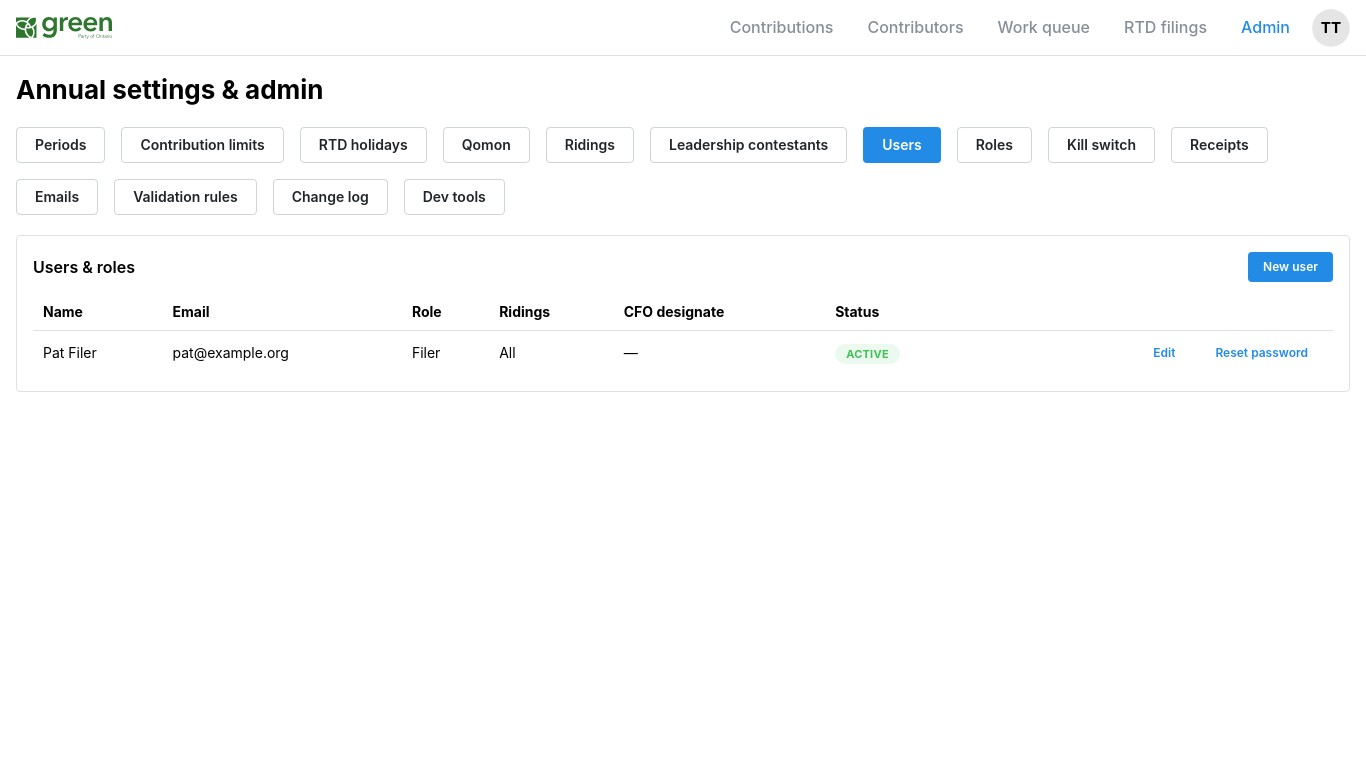
Test: an admin resets a user password with a reason
This screenshot has width=1366, height=768.
Click the button "Reset password" at (1262, 353), box 1200,338 -> 1323,368
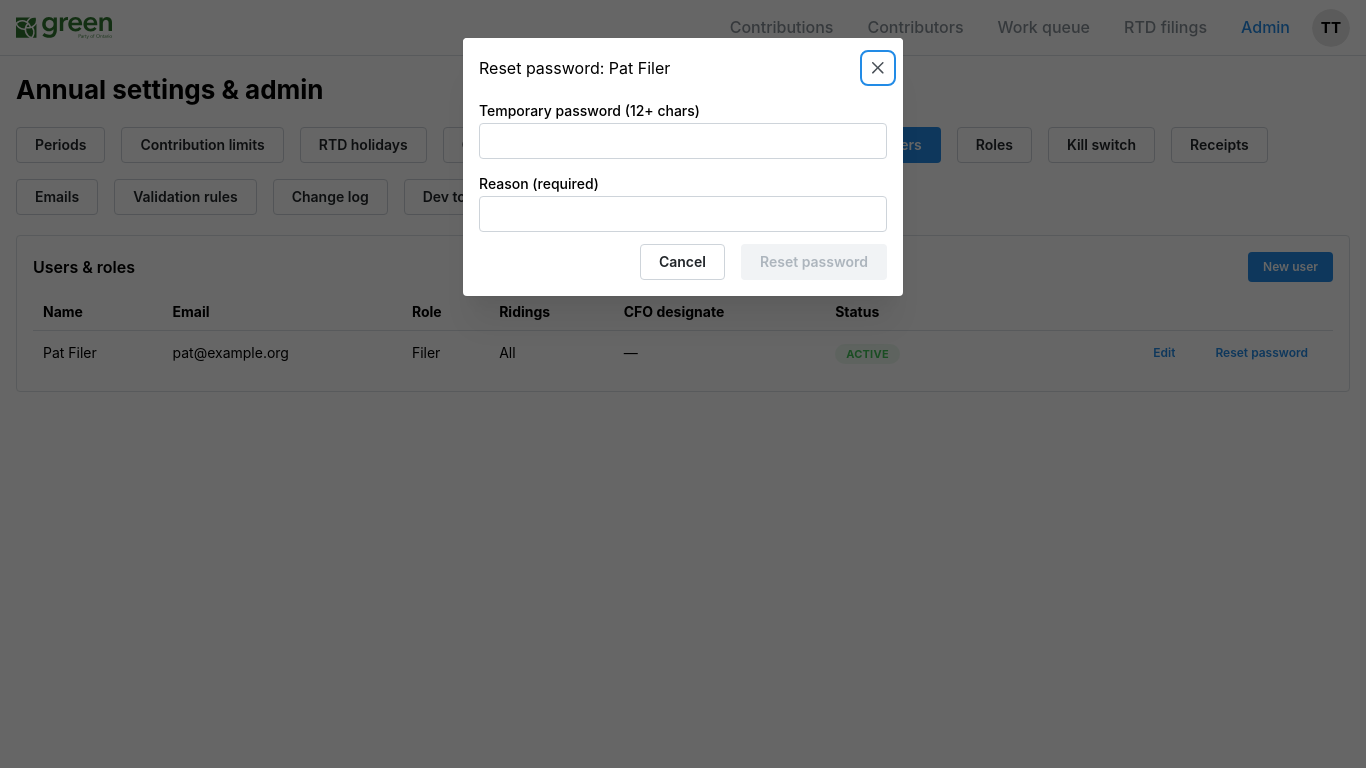
Type "temporary-pass-phrase" into the field labelled "Temporary password (12+ chars)" at (683, 141), box 479,123 -> 887,159
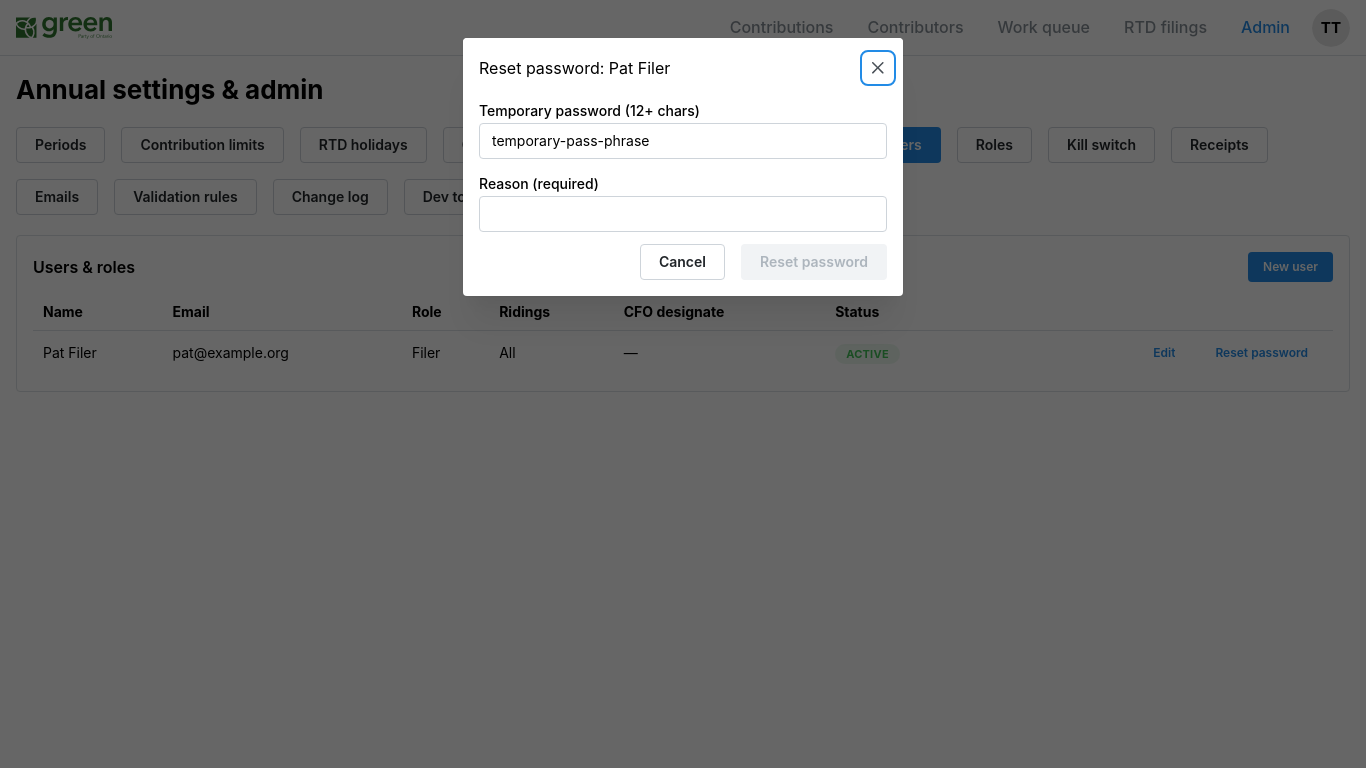
Type "forgot password" into the field labelled "Reason (required)" at (683, 214), box 479,196 -> 887,232
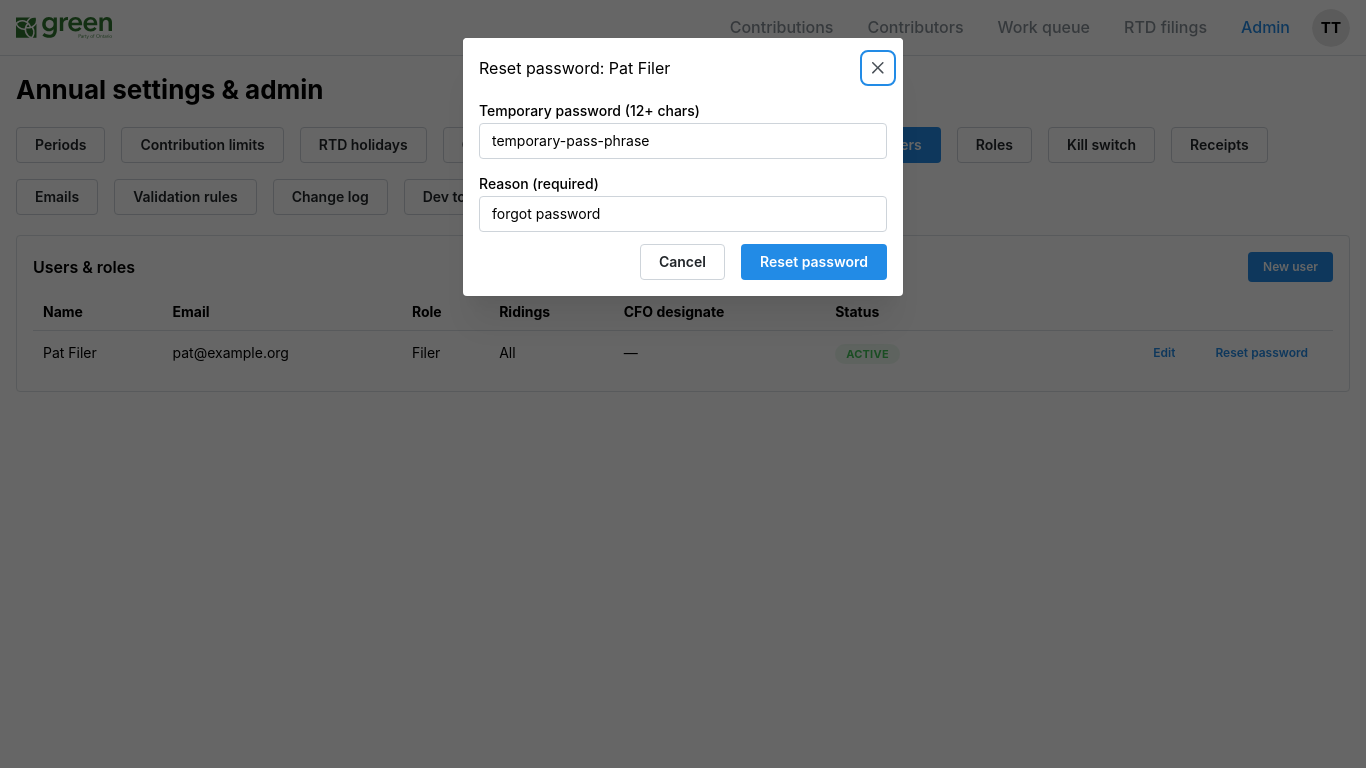
Click the button "Reset password" at (814, 262), box 741,244 -> 887,280
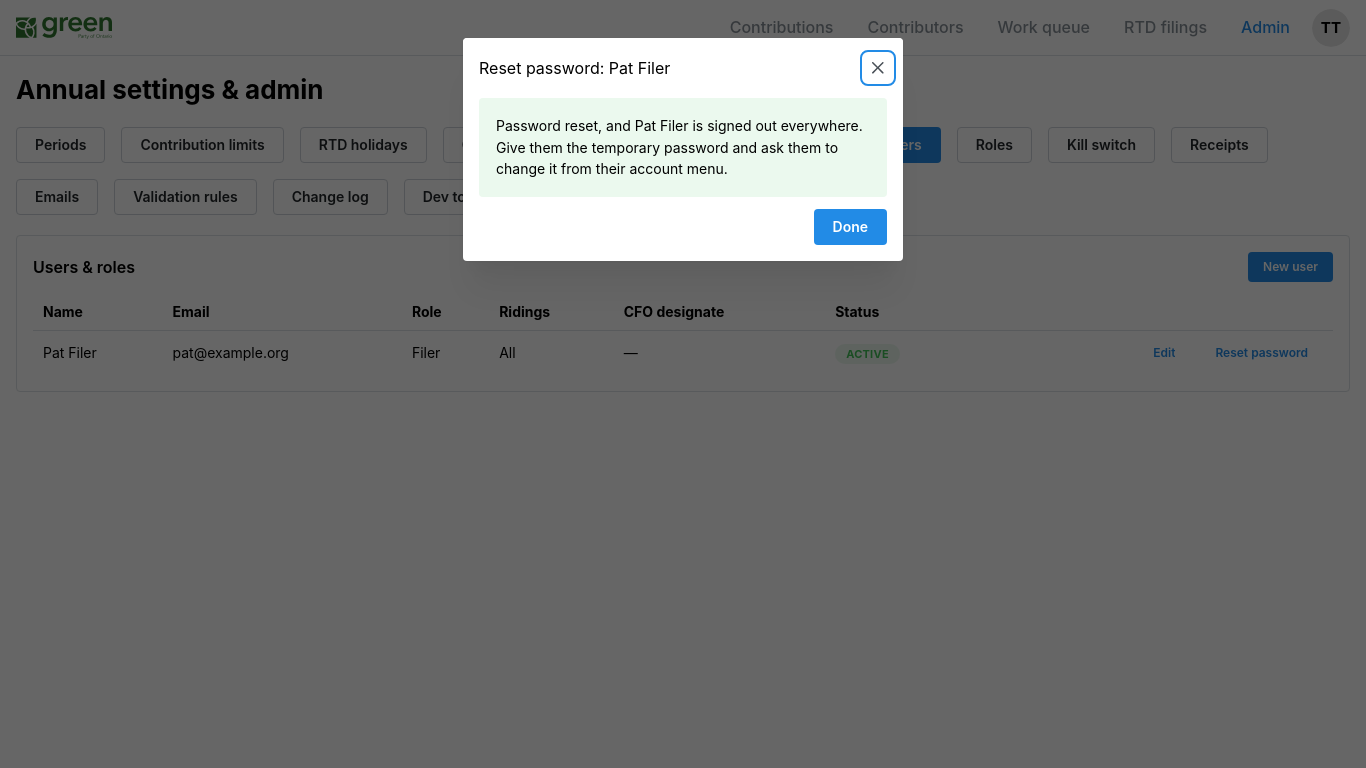
Expected: the text "Password reset" is shown, 496,117 -> 635,134
